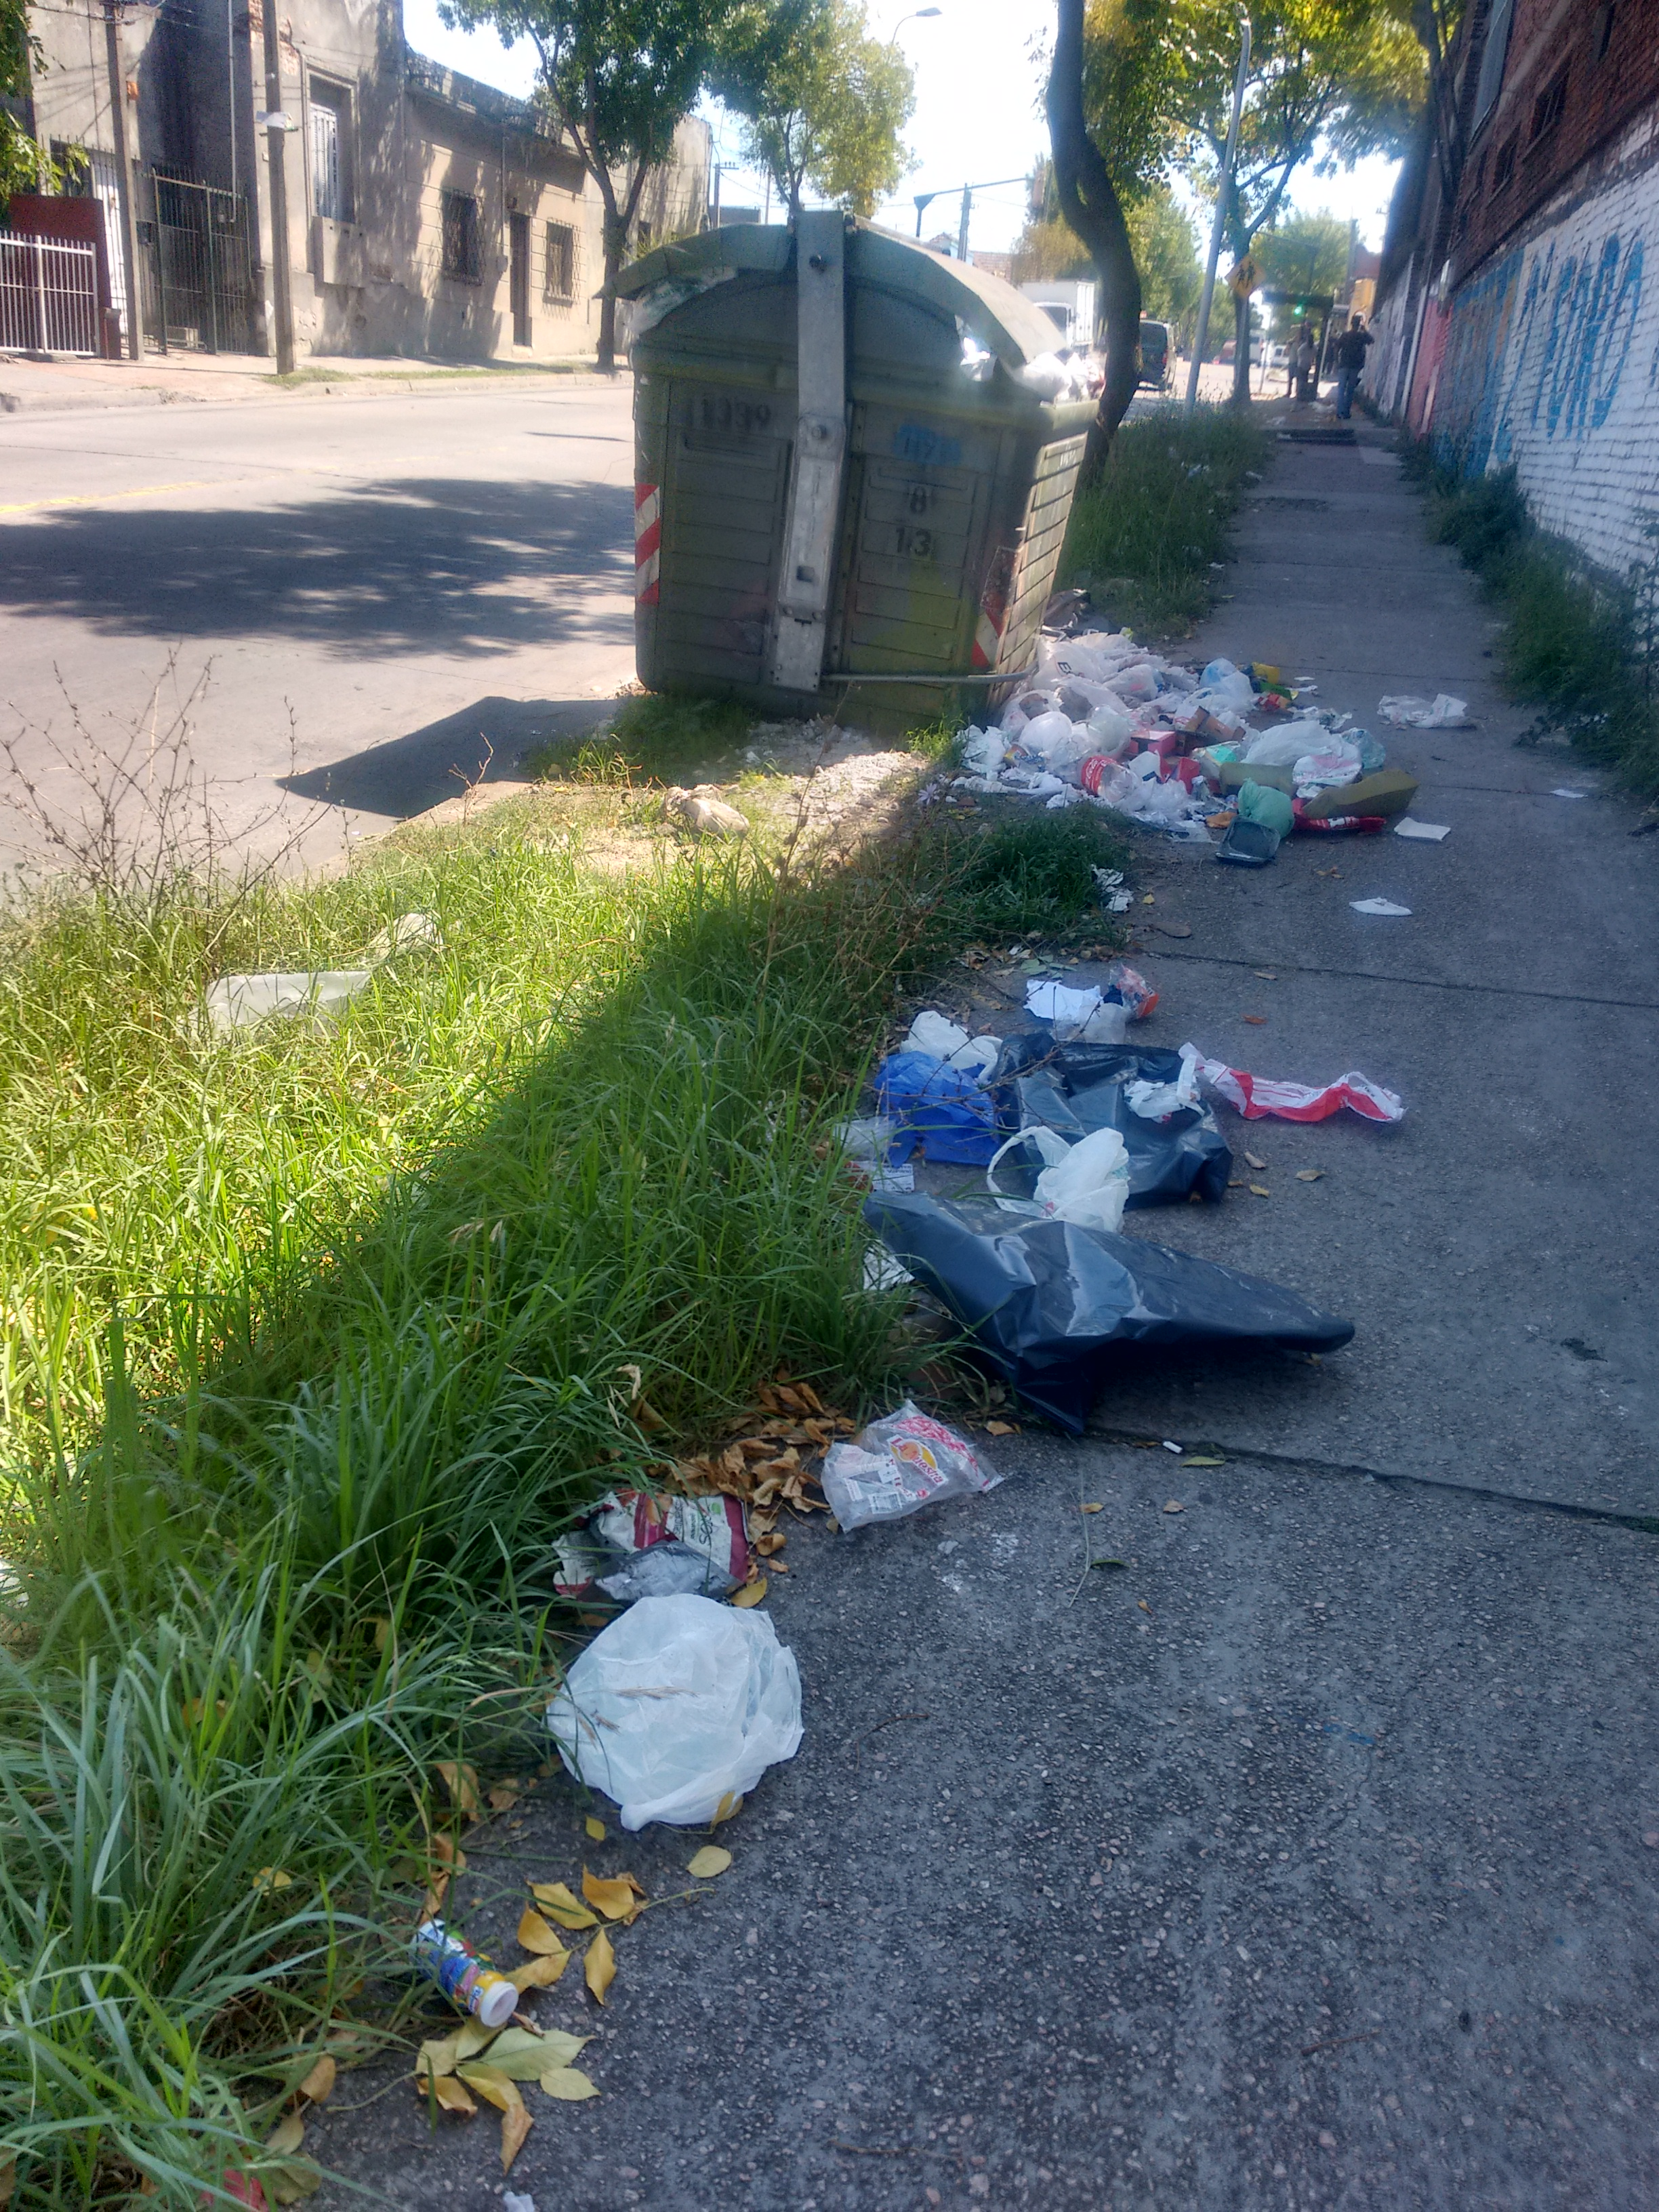container: (599, 195, 1127, 758)
